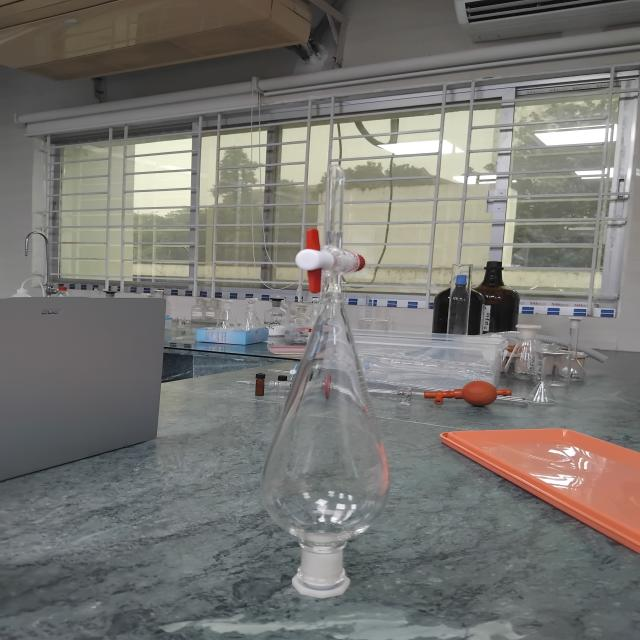Separating_Funnel: (250, 127, 417, 617)
